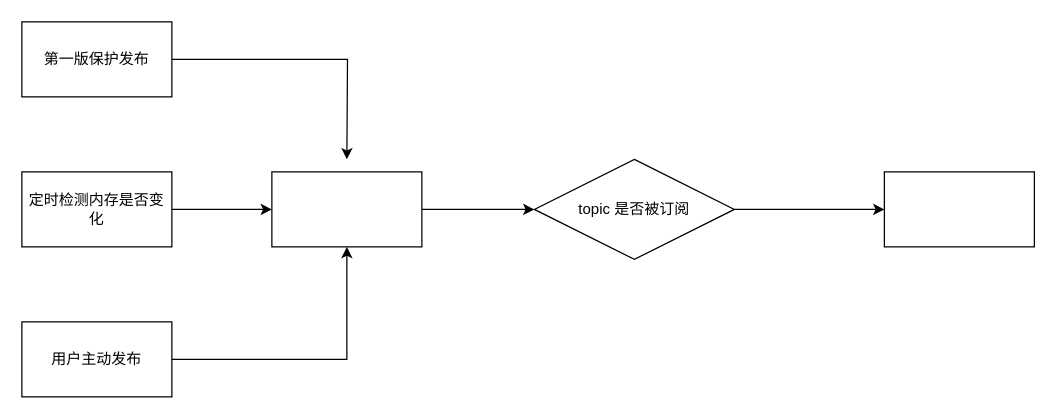
Some shapes in this 1056 by 419 pixel diagram are drawn without their labels. Here are the shapes that lost their labels. From the top down, the centre of each, then its label:
At (x=346, y=209): "发布 tpoic".
At (x=958, y=209): "do action".
